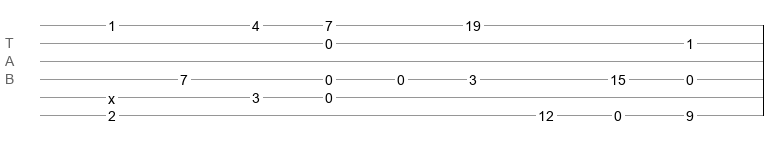0: (325, 90, 333, 100), (325, 72, 333, 82), (325, 36, 333, 46), (397, 72, 405, 82), (614, 108, 622, 118), (686, 72, 694, 82)
1: (108, 18, 116, 28), (686, 36, 694, 46)
12: (538, 108, 554, 118)
15: (610, 72, 626, 82)
19: (465, 18, 481, 28)
2: (108, 108, 116, 118)
3: (252, 90, 260, 100), (469, 72, 477, 82)
4: (252, 18, 260, 28)
7: (180, 72, 188, 82), (325, 18, 333, 28)
9: (686, 108, 694, 118)
x: (108, 91, 115, 99)
